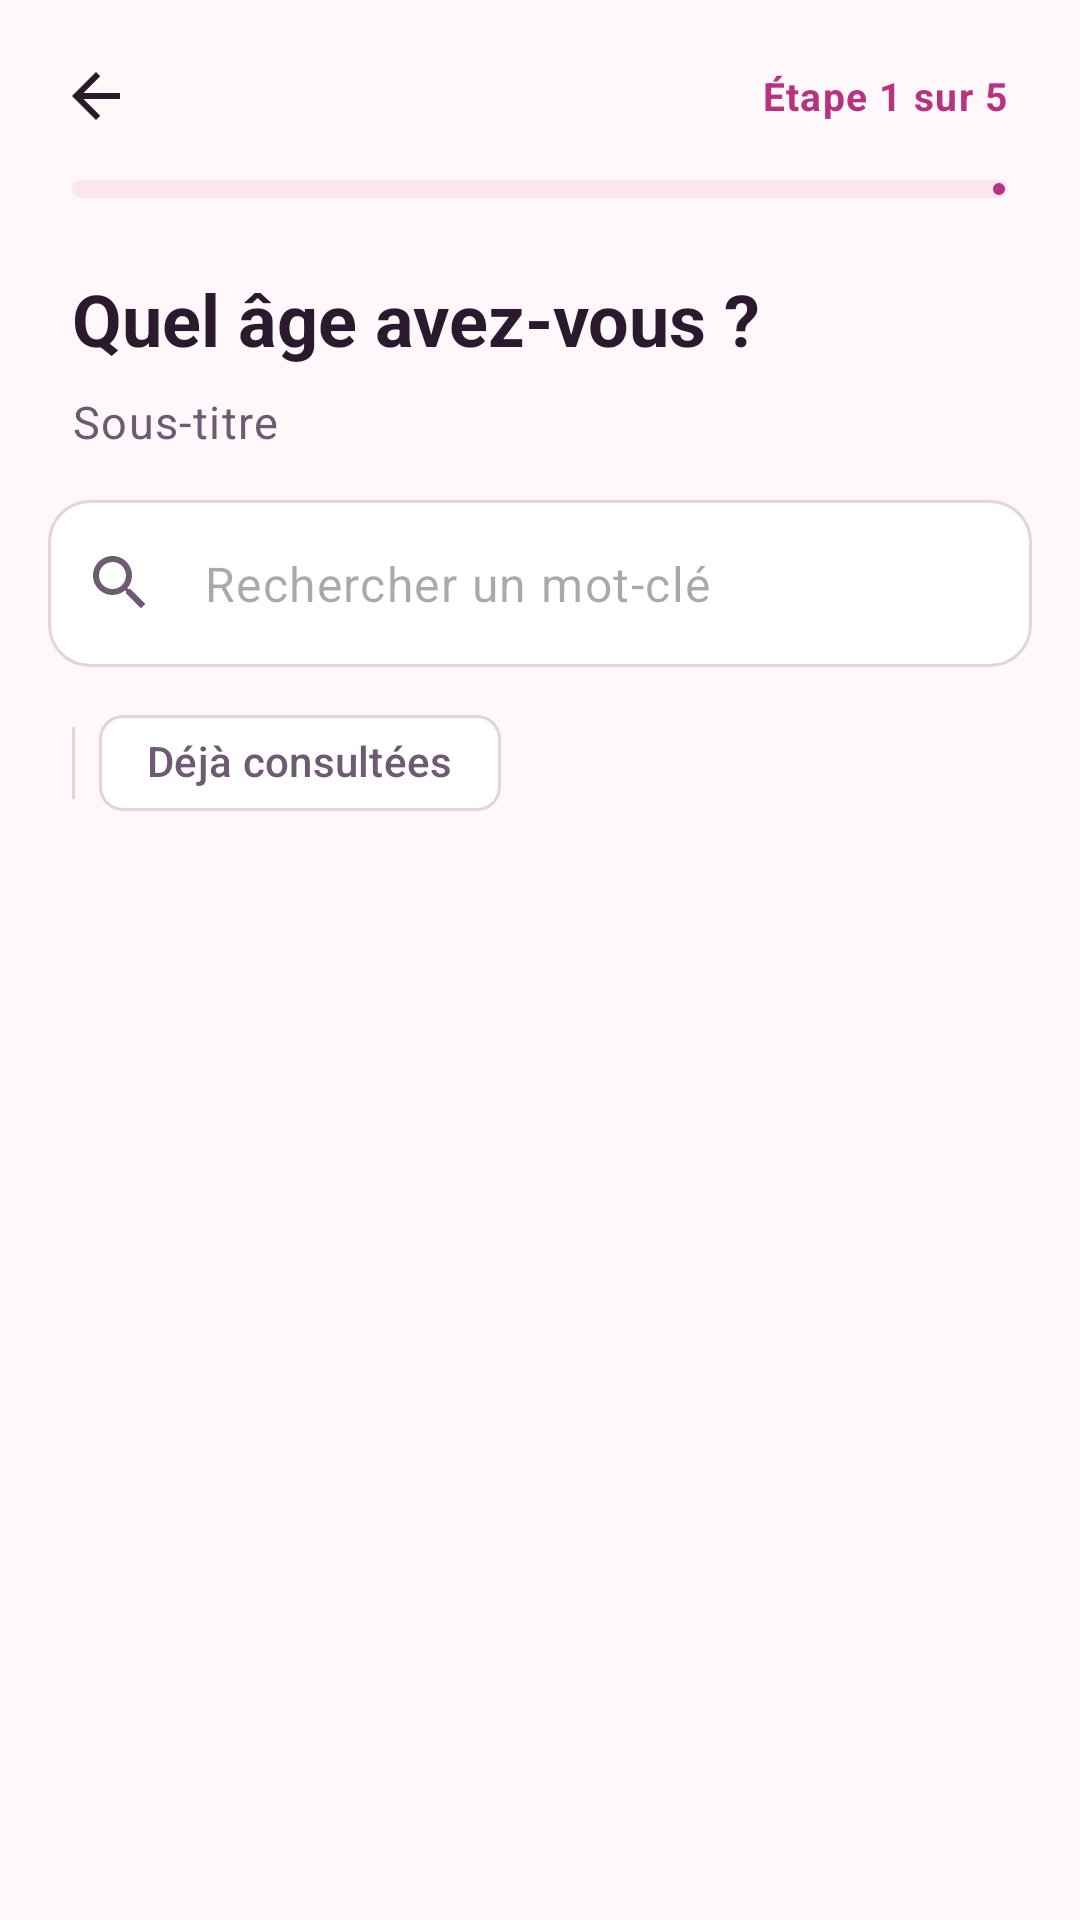

Icon click points for this 1080*1920 phone screenshot, format (x=x, y=y):
Retour: (x=96, y=96)
